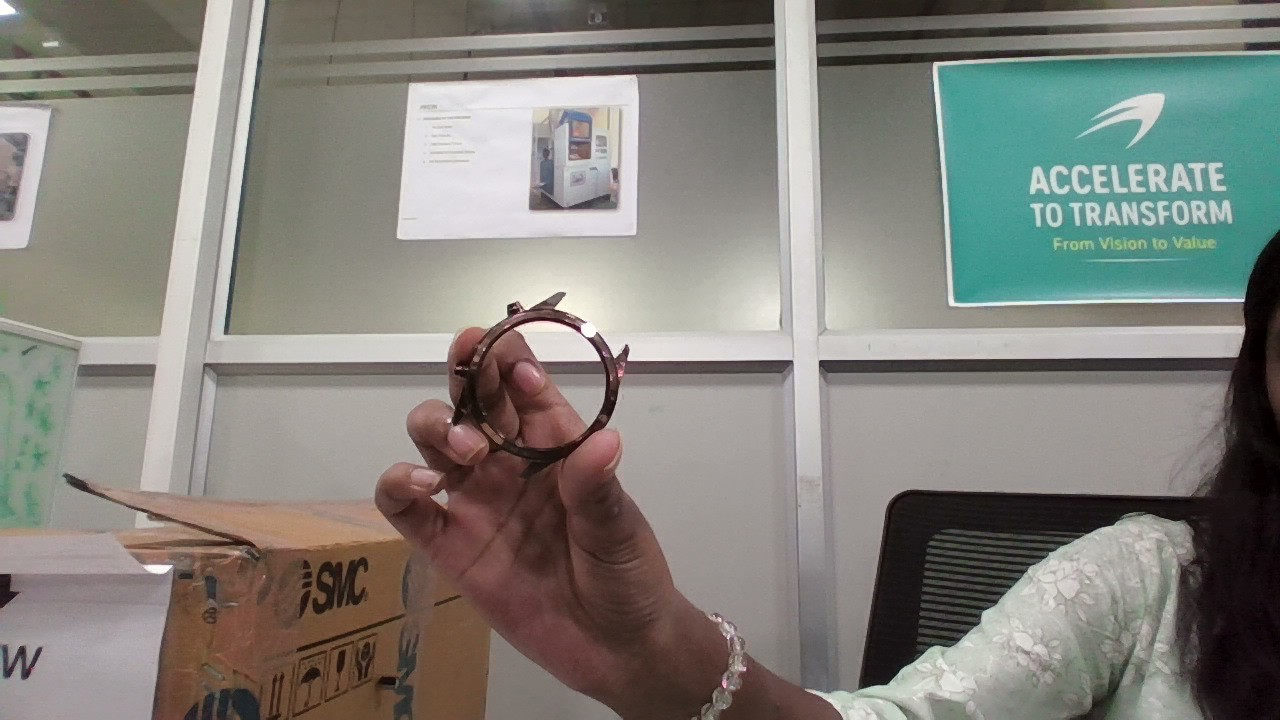case2: (449, 292, 630, 479)
